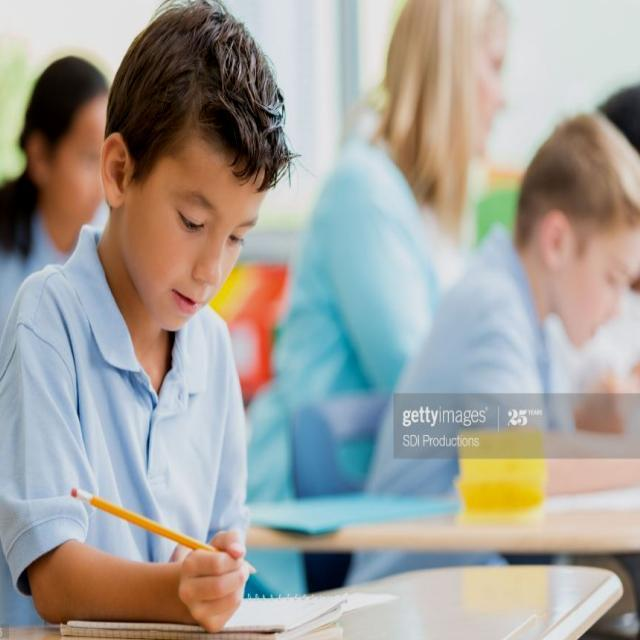good: (0, 5, 307, 640)
